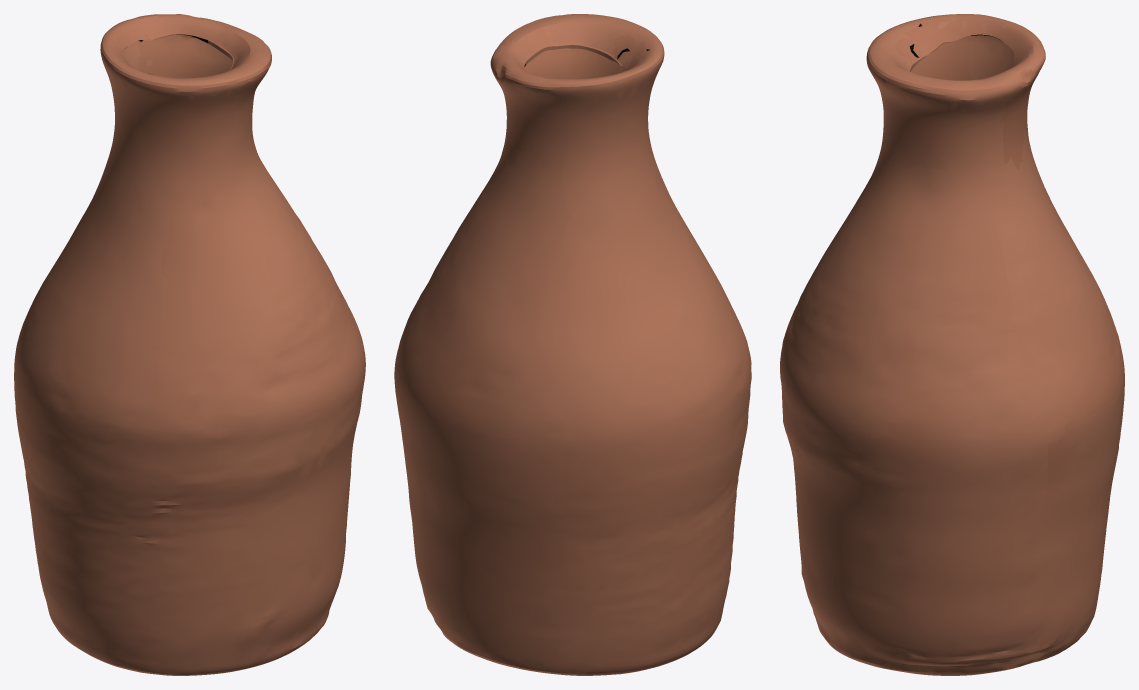
The model's file is incense-bottle-raw.glb.
3 renders of one model, left to right at view 1: azimuth 30°, elevation 25°; view 2: azimuth 150°, elevation 25°; view 3: azimuth 270°, elevation 25°, orthographic.
Size of the model in its own units: 0.00104 by 0.0019 by 0.00101.
Materials: 1 (1 with a texture image).
